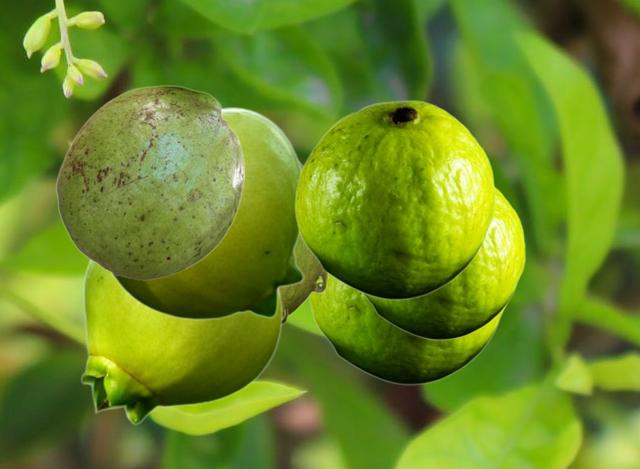guava: (108, 106, 304, 319), (294, 100, 494, 299), (55, 85, 244, 279), (80, 260, 282, 424), (362, 186, 524, 339), (308, 275, 507, 384), (281, 162, 327, 324)
